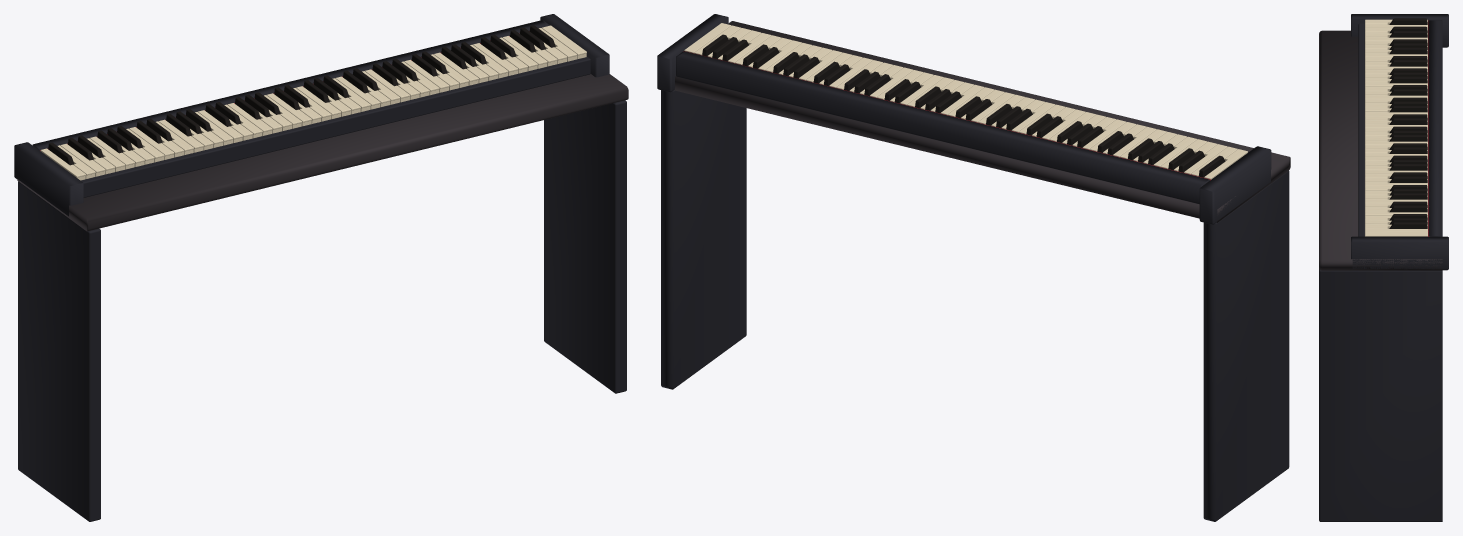
The model's file is keyboard88.glb.
3 renders of one model, left to right at view 1: azimuth 30°, elevation 25°; view 2: azimuth 150°, elevation 25°; view 3: azimuth 270°, elevation 25°, orthographic. The views are drawn at different scales.
Visible parts, largest first — view 1: panel-left, panel-right, table.001, slip.001, board.001, cheek-left, cheek-right; view 2: panel-left, panel-right, board.001, table.001, cheek-left, cheek-right; view 3: panel-right, table.001, board.001, cheek-right, slip.001, cheek-left, key-108, key-34, key-46, key-99, key-27, key-39 (+44 smaller).
Part boxes in pixels (box(x1,y1,x2,y2)): panel-left: box(18, 181, 100, 521); panel-right: box(544, 100, 626, 393); table.001: box(17, 74, 628, 231); slip.001: box(81, 57, 590, 197); board.001: box(32, 20, 549, 150); cheek-left: box(14, 142, 83, 216); cheek-right: box(540, 14, 609, 77); panel-left: box(1203, 171, 1289, 521); panel-right: box(661, 90, 746, 389); board.001: box(676, 51, 1209, 204); table.001: box(674, 21, 1290, 222); cheek-left: box(1199, 146, 1271, 224); cheek-right: box(657, 14, 728, 92); panel-right: box(1319, 268, 1442, 521); table.001: box(1319, 30, 1442, 270); board.001: box(1428, 20, 1442, 236); cheek-right: box(1351, 236, 1448, 270); slip.001: box(1358, 23, 1364, 236); cheek-left: box(1351, 14, 1448, 47); key-108: box(1365, 231, 1427, 236); key-34: box(1389, 47, 1427, 54); key-46: box(1389, 76, 1427, 83); key-99: box(1389, 205, 1427, 212); key-27: box(1389, 31, 1427, 37); key-39: box(1389, 60, 1427, 66).
Bounding box in the file's own units: 1.29 × 0.752 × 0.31.
Materials: 16 (16 with a texture image).
